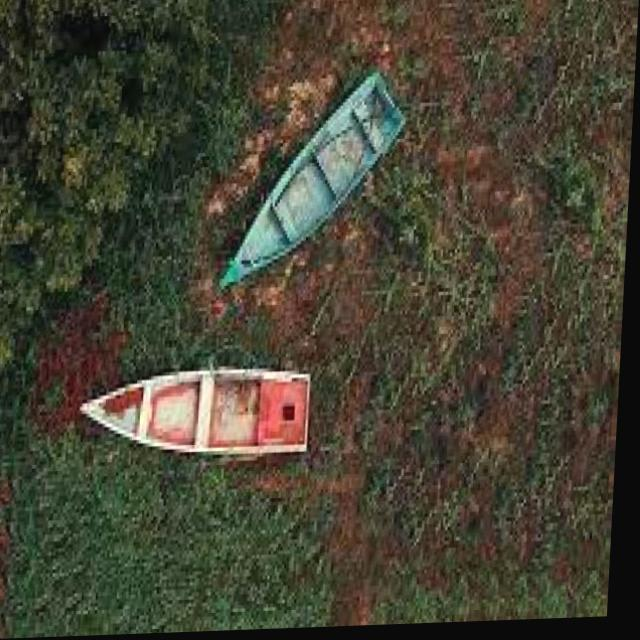ship2: (222, 76, 409, 291), (85, 371, 317, 464)
